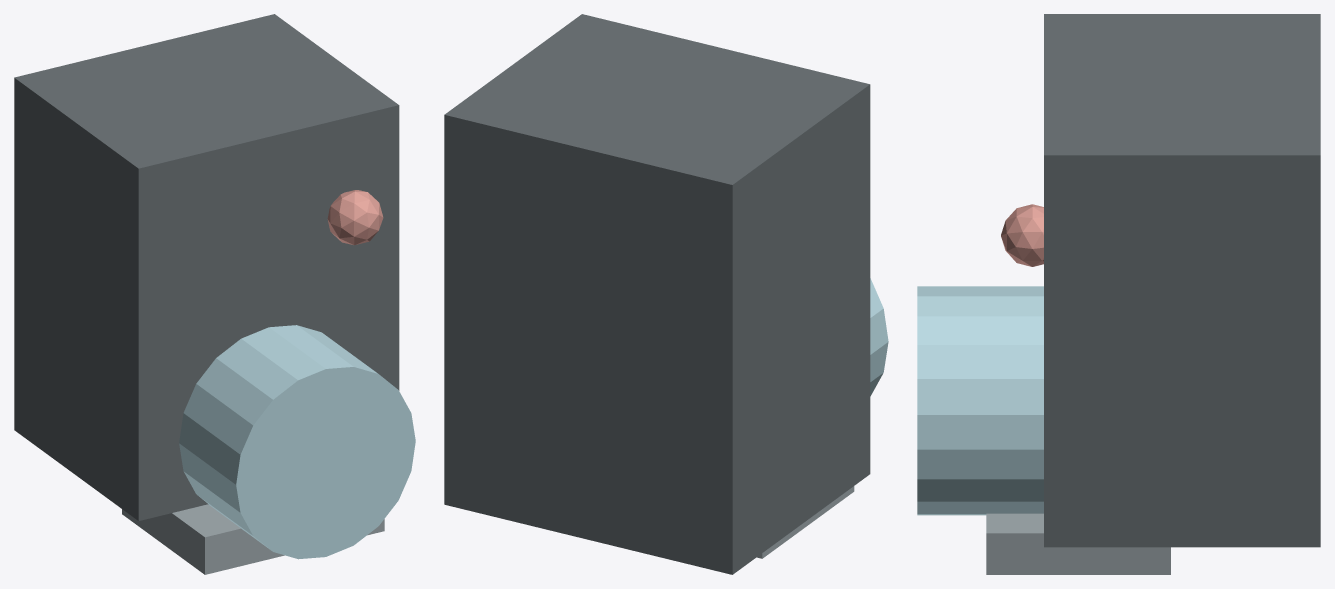
File: coffee_maker.glb
3 views of the same model, side by side, from view 1: azimuth 30°, elevation 25°; view 2: azimuth 150°, elevation 25°; view 3: azimuth 270°, elevation 25° (orthographic). The views are drawn at different scales.
Visible parts, largest first — view 1: part_00, part_01, part_02, part_03; view 2: part_00, part_01, part_02; view 3: part_00, part_01, part_02, part_03.
Boxes of the visible parts, x1,y1,x2,y2 form: part_00: (14, 14, 399, 520); part_01: (179, 325, 415, 559); part_02: (122, 504, 384, 574); part_03: (327, 190, 383, 245); part_00: (444, 14, 870, 574); part_01: (870, 278, 888, 396); part_02: (757, 486, 854, 558); part_00: (1044, 14, 1320, 547); part_01: (917, 286, 1043, 515); part_02: (986, 513, 1170, 574); part_03: (1001, 204, 1043, 266).
Size of the model in its own units: 0.58 by 0.845 by 0.7.
